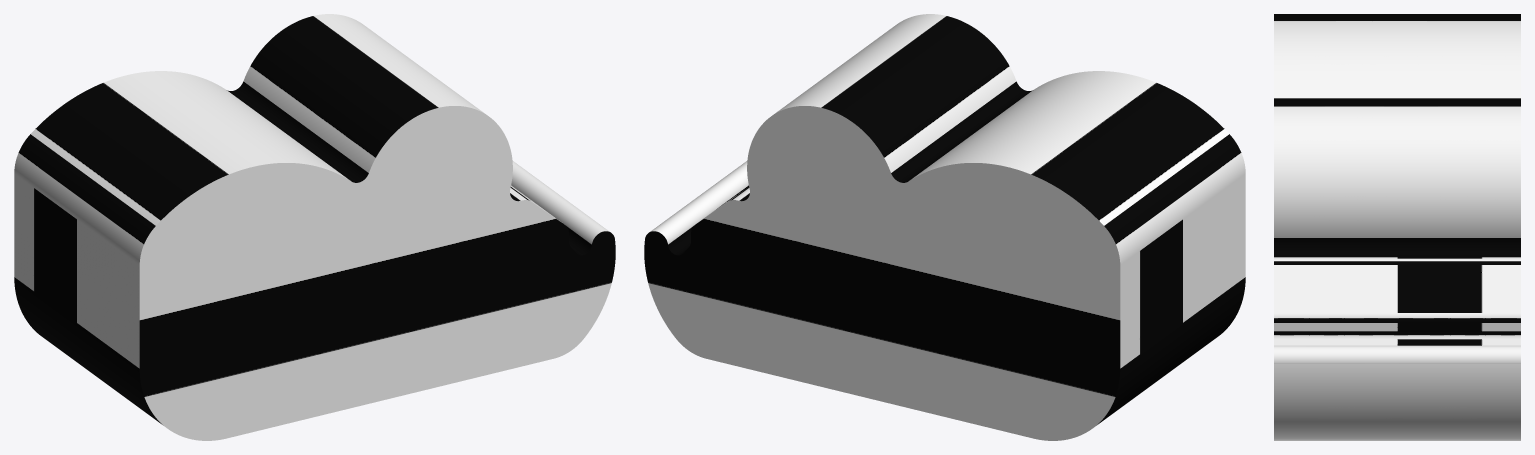
File: CashFlowGamePiece.obj
3 views of the same model, side by side, from view 1: azimuth 30°, elevation 25°; view 2: azimuth 150°, elevation 25°; view 3: azimuth 270°, elevation 25° (orthographic).
Parts seen in each view (by area): view 1: Solid5; view 2: Solid5; view 3: Solid5.
Part boxes in pixels (x1,y1,x2,y2): Solid5: (14,14,615,440); Solid5: (644,14,1245,440); Solid5: (1274,14,1520,440).
Bounding box in the file's own units: 21.9 × 12.27 × 10.
